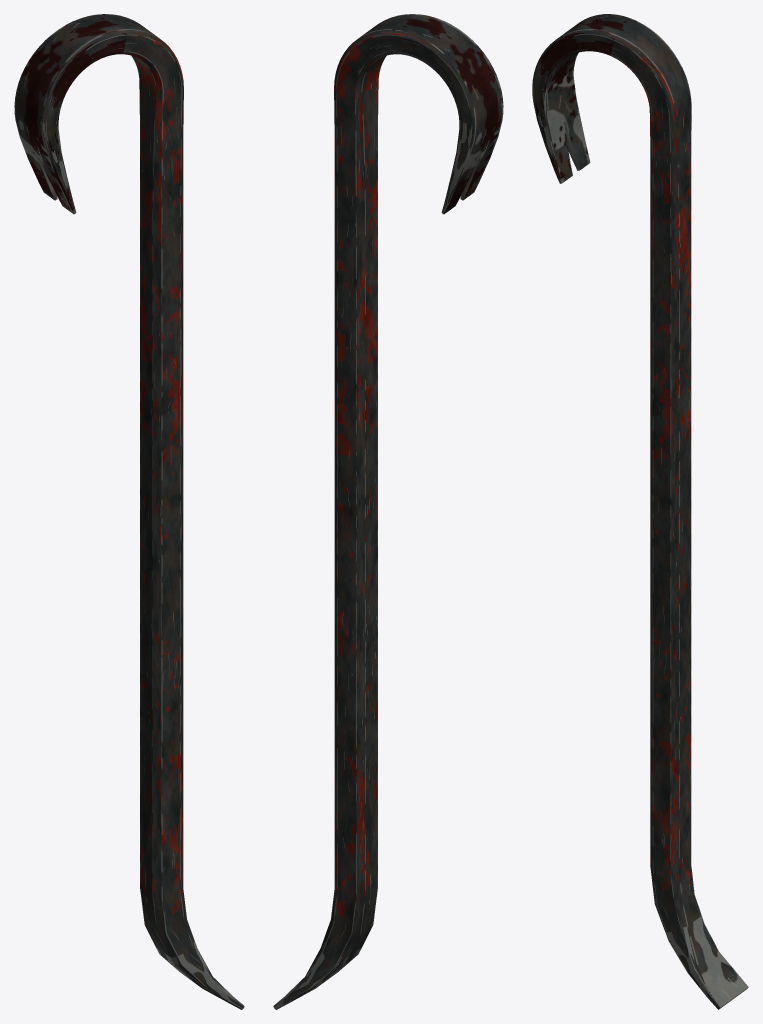
File: crowbar.glb
The picture shows the model from 3 angles, left to right: view 1: azimuth 30°, elevation 25°; view 2: azimuth 150°, elevation 25°; view 3: azimuth 330°, elevation 25°; orthographic projection. The views are drawn at different scales.
Visible parts, largest first — view 1: Crowbar_ForgedSteel; view 2: Crowbar_ForgedSteel; view 3: Crowbar_ForgedSteel.
Boxes of the visible parts, x1,y1,x2,y2 form: Crowbar_ForgedSteel: (14, 14, 244, 1009); Crowbar_ForgedSteel: (273, 14, 503, 1009); Crowbar_ForgedSteel: (532, 14, 748, 1009).
Size of the model in its own units: 0.1466 by 0.7 by 0.0405.
Materials: 1 (1 with a texture image).
